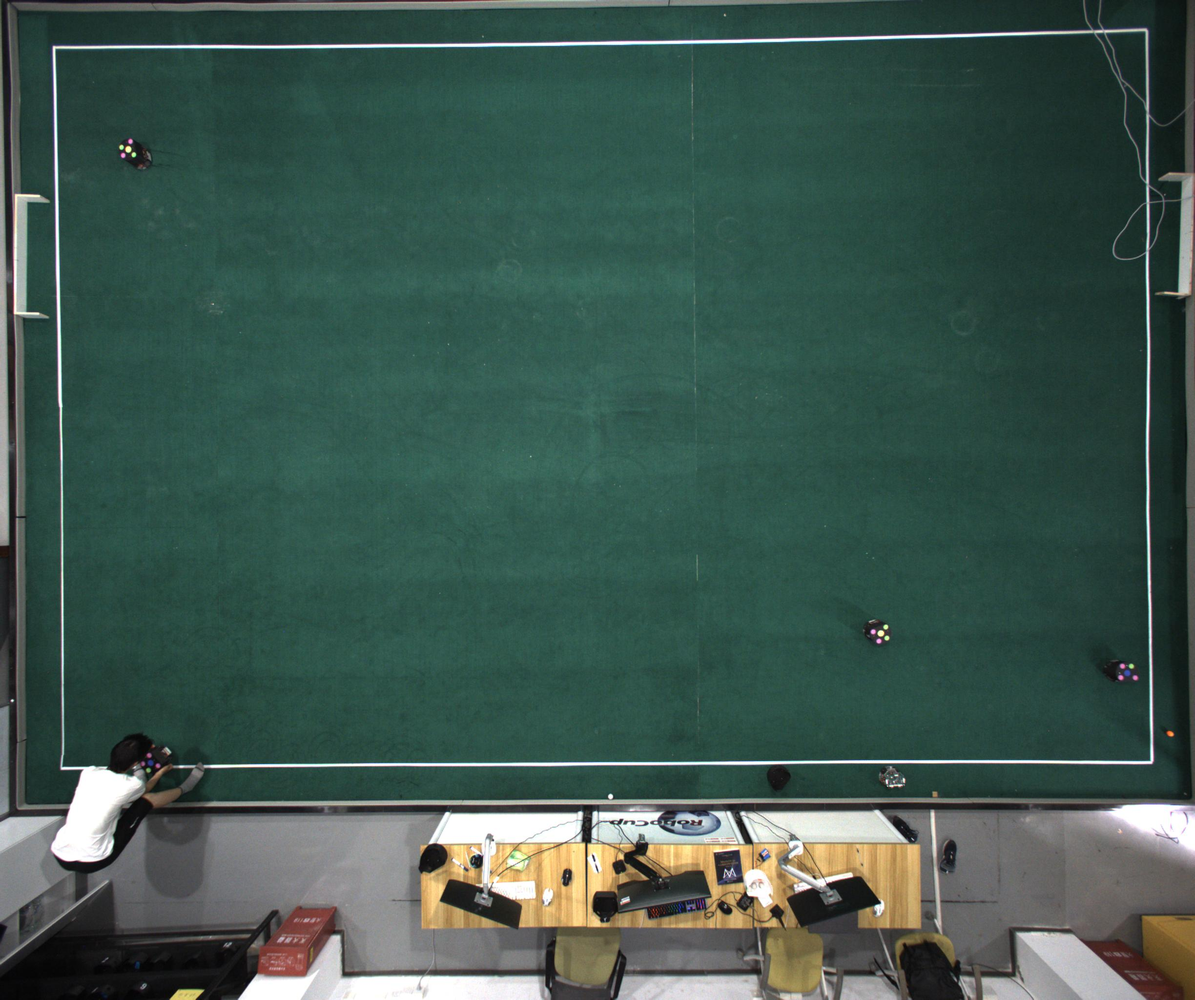ball: (1167, 730, 1174, 738)
blue_bot: (1116, 660, 1139, 682)
yellow_bot: (870, 624, 892, 644), (119, 138, 137, 160)
